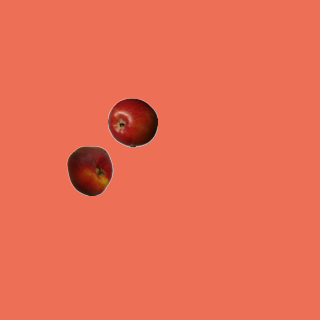Apple Braeburn: (107, 97, 157, 147)
Nectarine Flat: (64, 145, 114, 195)
